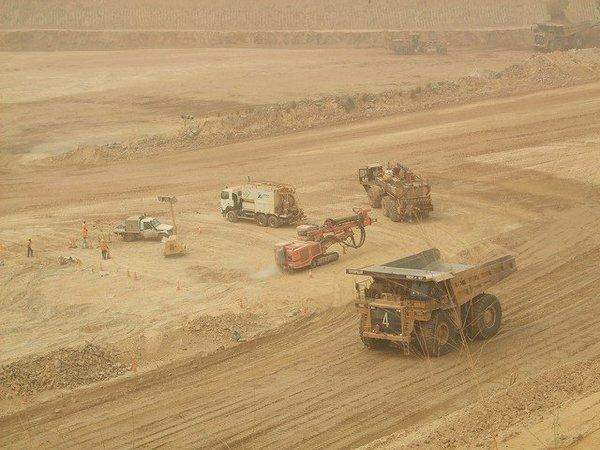ExcavationMachinery: (345, 246, 517, 357), (272, 205, 377, 275), (358, 160, 438, 222), (218, 174, 306, 229), (530, 15, 591, 53)
MiningTool: (387, 33, 447, 56)
Person: (96, 239, 112, 261), (25, 237, 36, 256), (81, 220, 88, 248)
Vehicle: (110, 217, 174, 244)
